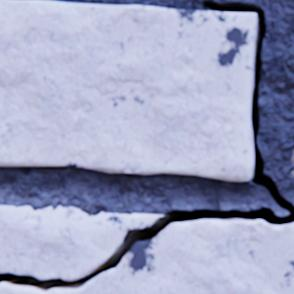brick: (0, 0, 256, 181), (291, 152, 293, 164)
broken_brick: (0, 220, 293, 293), (0, 205, 164, 279)
crack: (0, 1, 293, 291), (96, 216, 99, 226)
